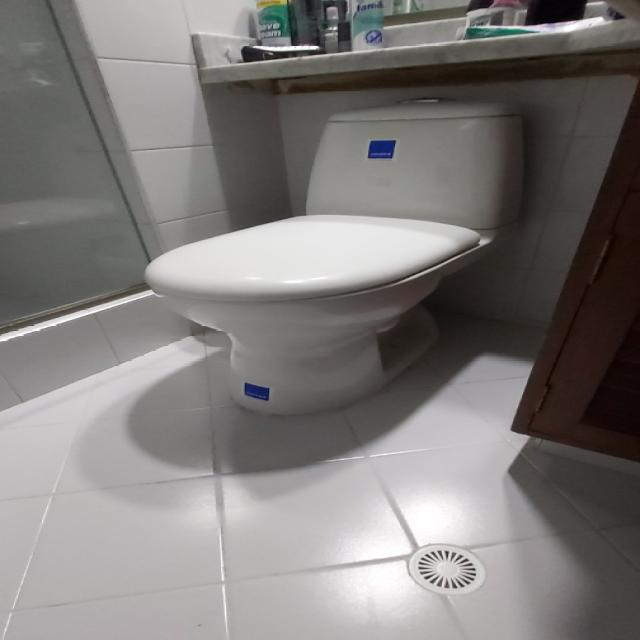toilet: (142, 98, 524, 416)
